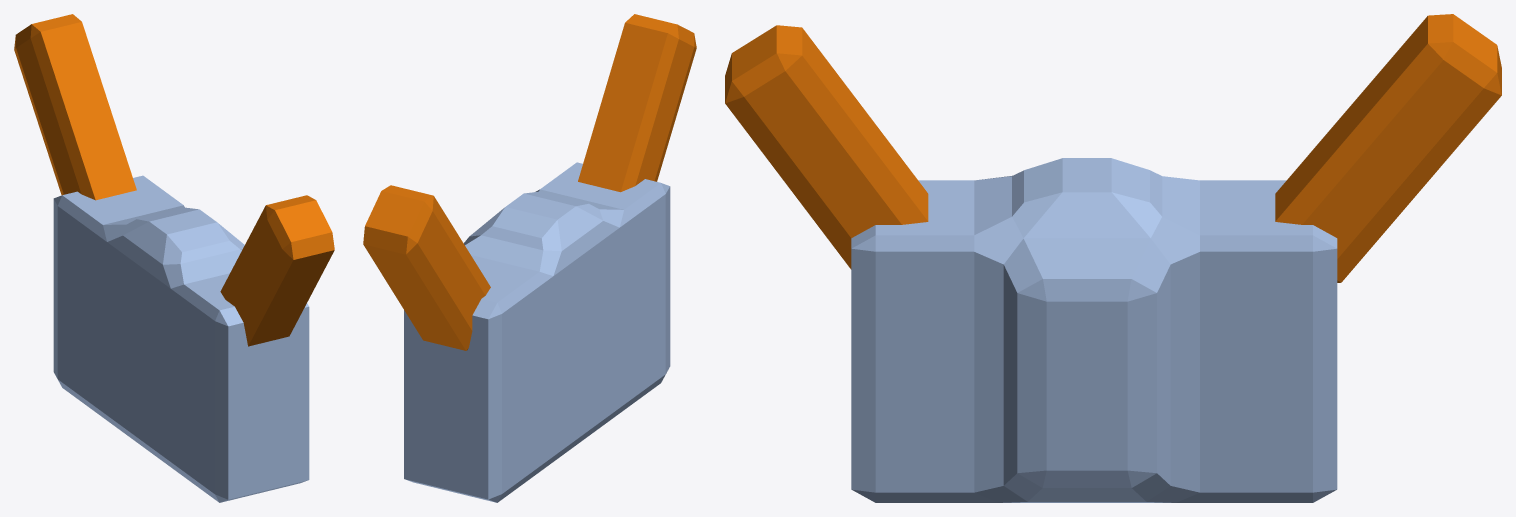
File: altar.fbx
3 renders of one model, left to right at view 1: azimuth 30°, elevation 25°; view 2: azimuth 150°, elevation 25°; view 3: azimuth 270°, elevation 25°, orthographic. The views are drawn at different scales.
Visible parts, largest first — view 1: Altar; view 2: Altar; view 3: Altar.
Part boxes in pixels (x1=…): Altar: x1=14, y1=14, x2=334, y2=502; Altar: x1=363, y1=14, x2=696, y2=502; Altar: x1=725, y1=14, x2=1501, y2=502.
Bounding box in the file's own units: 72.93 × 203 × 320.
